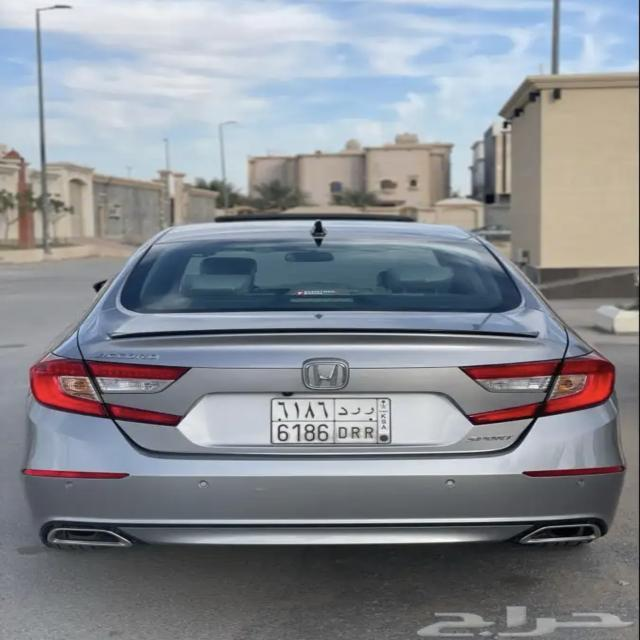license_plate: (270, 398, 392, 444)
